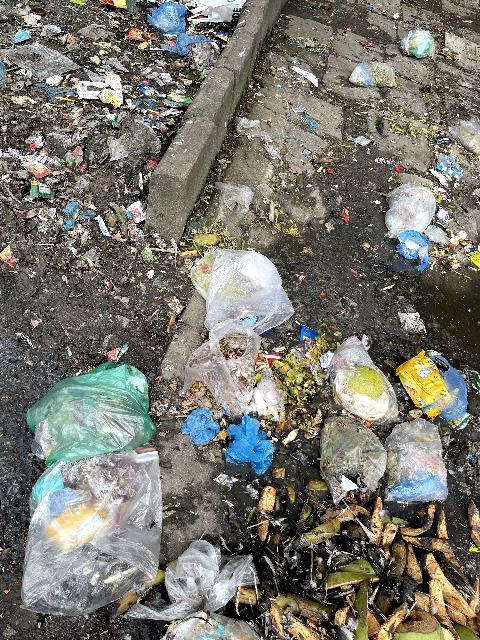polythene: (8, 382, 169, 621)
